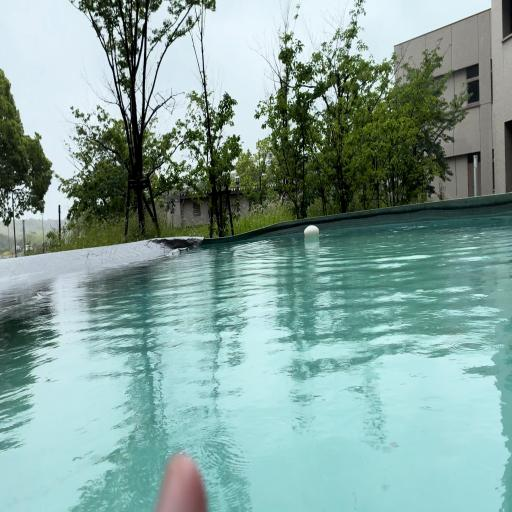white buoy: (304, 224, 319, 238)
